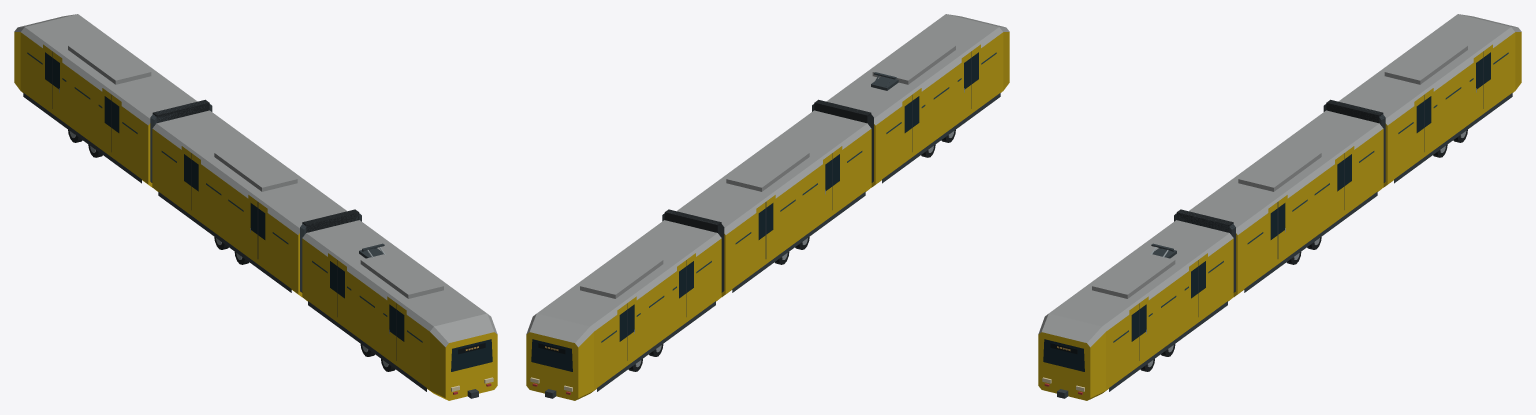
Rendered from tram-gt6z.glb.
The picture shows the model from 3 angles, left to right: view 1: azimuth 30°, elevation 25°; view 2: azimuth 150°, elevation 25°; view 3: azimuth 330°, elevation 25°; orthographic projection.
Visible parts, largest first — view 1: tram-gt6z.segment-01.005, tram-gt6z.segment-02.005, tram-gt6z.segment-03.005; view 2: tram-gt6z.segment-03.005, tram-gt6z.segment-02.005, tram-gt6z.segment-01.005; view 3: tram-gt6z.segment-01.005, tram-gt6z.segment-02.005, tram-gt6z.segment-03.005.
Part boxes in pixels (bbox=[...]): tram-gt6z.segment-01.005: bbox=[300, 209, 497, 400]; tram-gt6z.segment-02.005: bbox=[150, 99, 346, 296]; tram-gt6z.segment-03.005: bbox=[14, 14, 197, 187]; tram-gt6z.segment-03.005: bbox=[526, 220, 721, 400]; tram-gt6z.segment-02.005: bbox=[662, 110, 871, 296]; tram-gt6z.segment-01.005: bbox=[812, 14, 1009, 187]; tram-gt6z.segment-01.005: bbox=[1038, 209, 1235, 400]; tram-gt6z.segment-02.005: bbox=[1189, 99, 1385, 296]; tram-gt6z.segment-03.005: bbox=[1338, 14, 1521, 187].
Size of the model in its own units: 2.35 by 3.2 by 28.44.
